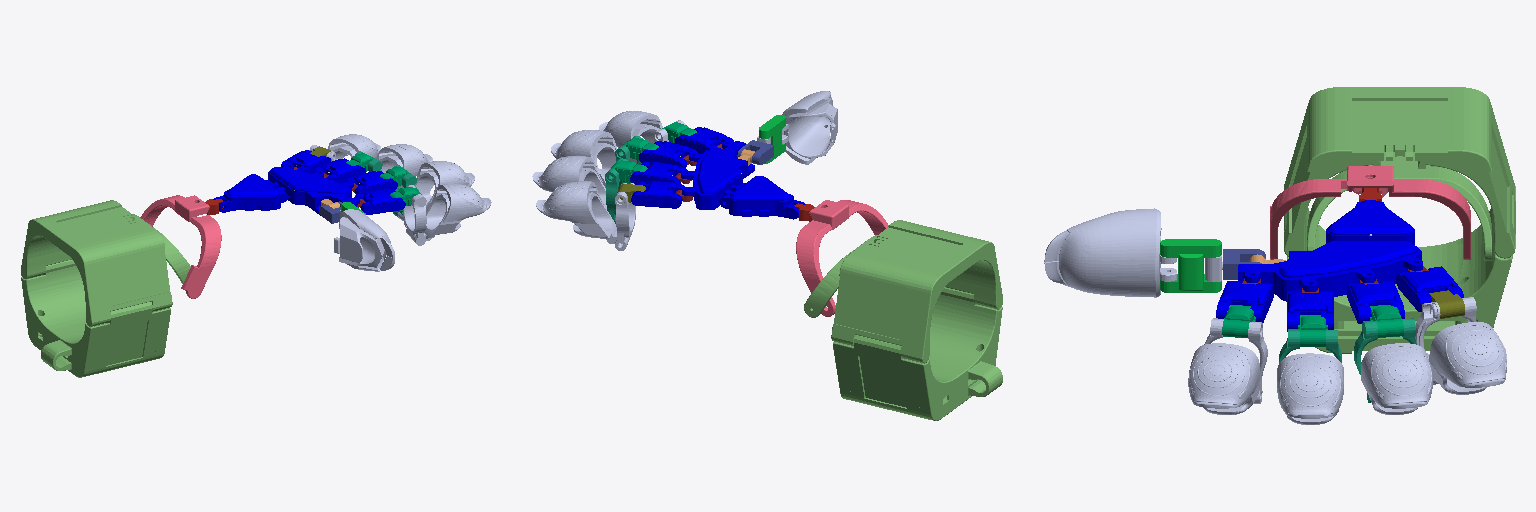
--- What the picture shows (computed from the rendered views, not written in the file) ---
The picture shows the robot from 3 angles, left to right: view 1: azimuth 30°, elevation 25°; view 2: azimuth 150°, elevation 25°; view 3: azimuth 270°, elevation 25°; orthographic projection.
Robot: exoskeleton_hand_right_description — 45 links, 44 joints (29 revolute, 15 fixed); root link base_link; default pose: all joints at 0.
Links seen in each view (by area): view 1: base_link, J1L, M5L, J4L, S5L, J3L, Z5L, W5L, X5L, S4L, S2L, Z2L (+2 smaller); view 2: base_link, M5L, J1L, J4L, X5L, J3L, Z5L, W5L, S5L, X2L, X4L, Z2L (+4 smaller); view 3: base_link, M5L, J4L, J1L, X5L, S5L, W5L, Z5L, J3L, M4L, X2L, S2L (+11 smaller).
Link boxes in pixels (x1,y1,x2,y2): base_link: (21,200,190,377); J1L: (140,195,221,298); M5L: (334,209,394,271); J4L: (268,164,359,215); S5L: (410,184,491,240); J3L: (213,174,288,212); Z5L: (398,161,474,220); W5L: (376,144,432,188); X5L: (328,134,380,158); S4L: (403,185,426,245); S2L: (355,189,405,214); Z2L: (345,171,397,194); base_link: (804,220,1002,420); M5L: (782,91,837,164); J1L: (796,200,888,316); J4L: (681,141,754,209); X5L: (536,181,629,243); J3L: (719,176,805,219); Z5L: (551,130,616,187); W5L: (532,156,606,208); S5L: (599,111,662,163); X2L: (631,181,685,208); X4L: (615,183,635,250); Z2L: (639,141,697,167); base_link: (1284,87,1515,353); M5L: (1044,208,1176,297); J4L: (1238,241,1422,301); J1L: (1270,166,1470,259); X5L: (1429,322,1506,394); S5L: (1188,343,1259,414); W5L: (1361,343,1432,414); Z5L: (1277,353,1343,424); J3L: (1326,200,1414,244); M4L: (1160,239,1221,292); X2L: (1396,266,1463,311); S2L: (1216,281,1273,322).
Size in the robot's own frame: 0.2883 by 0.1782 by 0.1042 metres.
Meshes: 45 distinct files referenced, 45 mesh visuals loaded (45 binary STL).

The robot description file, URDF, robot "exoskeleton_hand_right_description":
<?xml version="1.0" encoding="utf-8"?>
<!-- This URDF was automatically created by SolidWorks to URDF Exporter! Originally created by Stephen Brawner ([email redacted]) 
     Commit Version: 1.6.0-4-g7f85cfe  Build Version: 1.6.7995.38578
     For more information, please see http://wiki.ros.org/sw_urdf_exporter -->
<robot
  name="exoskeleton_hand_right_description">
  <link
    name="base_link">
    <inertial>
      <origin
        xyz="-0.0030282424811966 -0.000202453591969104 0.00209549277477911"
        rpy="0 0 0" />
      <mass
        value="0.0854893113839408" />
      <inertia
        ixx="7.87951204808435E-05"
        ixy="-5.74942328393189E-07"
        ixz="3.08017772210573E-07"
        iyy="3.62103093044226E-05"
        iyz="-7.67812343011597E-08"
        izz="9.51450651068513E-05" />
    </inertial>
    <visual>
      <origin
        xyz="0 0 0"
        rpy="0 0 0" />
      <geometry>
        <mesh
          filename="../meshes/base_link.STL" />
      </geometry>
      <material
        name="">
        <color
          rgba="0.525490196078431 0.756862745098039 0.486274509803922 1" />
      </material>
    </visual>
    <collision>
      <origin
        xyz="0 0 0"
        rpy="0 0 0" />
      <geometry>
        <mesh
          filename="../meshes/base_link.STL" />
      </geometry>
    </collision>
  </link>
  <link
    name="J1L">
    <inertial>
      <origin
        xyz="-0.0234888977547879 0.0141483240808185 0.0342692661965463"
        rpy="0 0 0" />
      <mass
        value="0.00476395501907497" />
      <inertia
        ixx="3.69939024607312E-06"
        ixy="3.31297478810531E-07"
        ixz="6.13762685954034E-08"
        iyy="4.01646791807973E-06"
        iyz="-5.28623044561846E-08"
        izz="8.32082377013024E-07" />
    </inertial>
    <visual>
      <origin
        xyz="0 0 0"
        rpy="0 0 0" />
      <geometry>
        <mesh
          filename="../meshes/J1L.STL" />
      </geometry>
      <material
        name="">
        <color
          rgba="0.941176470588235 0.443137254901961 0.552941176470588 1" />
      </material>
    </visual>
    <collision>
      <origin
        xyz="0 0 0"
        rpy="0 0 0" />
      <geometry>
        <mesh
          filename="../meshes/J1L.STL" />
      </geometry>
    </collision>
  </link>
  <joint
    name="J1J"
    type="revolute">
    <origin
      xyz="0.0415 0.038 0.0069695"
      rpy="1.5708 1.5577 0" />
    <parent
      link="base_link" />
    <child
      link="J1L" />
    <axis
      xyz="0 0 1" />
    <limit
      lower="-2.19"
      upper="0.88"
      effort="1"
      velocity="10" />
  </joint>
  <link
    name="J2L">
    <inertial>
      <origin
        xyz="-0.00969163633526231 -6.93889390390723E-17 0.00127341972326117"
        rpy="0 0 0" />
      <mass
        value="0.000665674176576965" />
      <inertia
        ixx="4.609022604101E-09"
        ixy="-8.23426807730033E-24"
        ixz="-1.78338122130669E-09"
        iyy="2.16062235318137E-08"
        iyz="-1.42351042593349E-23"
        izz="2.17500659945559E-08" />
    </inertial>
    <visual>
      <origin
        xyz="0 0 0"
        rpy="0 0 0" />
      <geometry>
        <mesh
          filename="../meshes/J2L.STL" />
      </geometry>
      <material
        name="">
        <color
          rgba="0.67843137254902 0.192156862745098 0.164705882352941 1" />
      </material>
    </visual>
    <collision>
      <origin
        xyz="0 0 0"
        rpy="0 0 0" />
      <geometry>
        <mesh
          filename="../meshes/J2L.STL" />
      </geometry>
    </collision>
  </link>
  <joint
    name="J2J"
    type="revolute">
    <origin
      xyz="-0.032507 0.023436 0.038"
      rpy="1.5708 0 -1.5839" />
    <parent
      link="J1L" />
    <child
      link="J2L" />
    <axis
      xyz="0 0 1" />
    <limit
      lower="-0.8"
      upper="0.8"
      effort="1"
      velocity="10" />
  </joint>
  <link
    name="J3L">
    <inertial>
      <origin
        xyz="0.00186966177785657 -0.0230468604582145 0.00475812237733981"
        rpy="0 0 0" />
      <mass
        value="0.00360059007040256" />
      <inertia
        ixx="7.0290401499669E-07"
        ixy="-9.75977694248046E-09"
        ixz="-2.2825487798017E-09"
        iyy="2.97008290837651E-07"
        iyz="-3.0558621166491E-08"
        izz="4.34972845206617E-07" />
    </inertial>
    <visual>
      <origin
        xyz="0 0 0"
        rpy="0 0 0" />
      <geometry>
        <mesh
          filename="../meshes/J3L.STL" />
      </geometry>
      <material
        name="">
        <color
          rgba="0 0 1 1" />
      </material>
    </visual>
    <collision>
      <origin
        xyz="0 0 0"
        rpy="0 0 0" />
      <geometry>
        <mesh
          filename="../meshes/J3L.STL" />
      </geometry>
    </collision>
  </link>
  <joint
    name="J3J"
    type="revolute">
    <origin
      xyz="-0.0167 -0.005 0.00095"
      rpy="-1.5708 -1.5577 0" />
    <parent
      link="J2L" />
    <child
      link="J3L" />
    <axis
      xyz="0 0 1" />
    <limit
      lower="-1.57"
      upper="1.75"
      effort="1"
      velocity="10" />
  </joint>
  <link
    name="J4L">
    <inertial>
      <origin
        xyz="0.00194154745006489 -0.0185349683103242 0.0249051962758978"
        rpy="0 0 0" />
      <mass
        value="0.00694236253516395" />
      <inertia
        ixx="2.80814850163908E-06"
        ixy="2.24577493768816E-08"
        ixz="-5.84812707905441E-09"
        iyy="2.2656058634879E-06"
        iyz="5.91287933358155E-07"
        izz="6.18441294014668E-07" />
    </inertial>
    <visual>
      <origin
        xyz="0 0 0"
        rpy="0 0 0" />
      <geometry>
        <mesh
          filename="../meshes/J4L.STL" />
      </geometry>
      <material
        name="">
        <color
          rgba="0 0 1 1" />
      </material>
    </visual>
    <collision>
      <origin
        xyz="0 0 0"
        rpy="0 0 0" />
      <geometry>
        <mesh
          filename="../meshes/J4L.STL" />
      </geometry>
    </collision>
  </link>
  <joint
    name="J4J"
    type="revolute">
    <origin
      xyz="-0.00050918 -0.038997 -0.00625"
      rpy="0 0 0" />
    <parent
      link="J3L" />
    <child
      link="J4L" />
    <axis
      xyz="0 0 1" />
    <limit
      lower="-1.75"
      upper="1.41"
      effort="1"
      velocity="10" />
  </joint>
  <link
    name="M1L">
    <inertial>
      <origin
        xyz="2.08166817117217E-17 -0.00596536053370201 0.000976115815327055"
        rpy="0 0 0" />
      <mass
        value="0.000324527245167189" />
      <inertia
        ixx="4.90075663532644E-09"
        ixy="5.88782154275791E-24"
        ixz="3.56794239054668E-25"
        iyy="2.0429000825295E-09"
        iyz="-7.09240574499119E-10"
        izz="5.10251044496689E-09" />
    </inertial>
    <visual>
      <origin
        xyz="0 0 0"
        rpy="0 0 0" />
      <geometry>
        <mesh
          filename="../meshes/M1L.STL" />
      </geometry>
      <material
        name="">
        <color
          rgba="0.890196078431372 0.666666666666667 0.458823529411765 1" />
      </material>
    </visual>
    <collision>
      <origin
        xyz="0 0 0"
        rpy="0 0 0" />
      <geometry>
        <mesh
          filename="../meshes/M1L.STL" />
      </geometry>
    </collision>
  </link>
  <joint
    name="M1J"
    type="revolute">
    <origin
      xyz="0.0025441 -0.015785 0.045979"
      rpy="-1.5708 0 1.5577" />
    <parent
      link="J4L" />
    <child
      link="M1L" />
    <axis
      xyz="0 0 1" />
    <limit
      lower="-0.04"
      upper="1.33"
      effort="1"
      velocity="10" />
  </joint>
  <link
    name="M2L">
    <inertial>
      <origin
        xyz="-0.00739583767943233 -0.00027241648032173 -0.00471529337479247"
        rpy="0 0 0" />
      <mass
        value="0.000679164183839798" />
      <inertia
        ixx="1.57082424154266E-08"
        ixy="-7.17563661699665E-11"
        ixz="5.23554546815558E-10"
        iyy="2.46980745186305E-08"
        iyz="8.97591419617405E-10"
        izz="1.37211850467112E-08" />
    </inertial>
    <visual>
      <origin
        xyz="0 0 0"
        rpy="0 0 0" />
      <geometry>
        <mesh
          filename="../meshes/M2L.STL" />
      </geometry>
      <material
        name="">
        <color
          rgba="0.329411764705882 0.372549019607843 0.643137254901961 1" />
      </material>
    </visual>
    <collision>
      <origin
        xyz="0 0 0"
        rpy="0 0 0" />
      <geometry>
        <mesh
          filename="../meshes/M2L.STL" />
      </geometry>
    </collision>
  </link>
  <joint
    name="M2J"
    type="revolute">
    <origin
      xyz="0.00575 -0.008 0.0005"
      rpy="1.5708 0 1.5708" />
    <parent
      link="M1L" />
    <child
      link="M2L" />
    <axis
      xyz="0 0 1" />
    <limit
      lower="-0.37"
      upper="1.75"
      effort="1"
      velocity="10" />
  </joint>
  <link
    name="M3L">
    <inertial>
      <origin
        xyz="1.47103614012156E-11 1.12633000842743E-09 0.00739067697875911"
        rpy="0 0 0" />
      <mass
        value="0.000371641676766653" />
      <inertia
        ixx="2.93982369883335E-09"
        ixy="2.35049949743526E-11"
        ixz="2.08142130473412E-18"
        iyy="4.73977337983283E-09"
        iyz="1.59308732670221E-16"
        izz="4.11198136517225E-09" />
    </inertial>
    <visual>
      <origin
        xyz="0 0 0"
        rpy="0 0 0" />
      <geometry>
        <mesh
          filename="../meshes/M3L.STL" />
      </geometry>
      <material
        name="">
        <color
          rgba="0.792156862745098 0.819607843137255 0.933333333333333 1" />
      </material>
    </visual>
    <collision>
      <origin
        xyz="0 0 0"
        rpy="0 0 0" />
      <geometry>
        <mesh
          filename="../meshes/M3L.STL" />
      </geometry>
    </collision>
  </link>
  <joint
    name="M3J"
    type="revolute">
    <origin
      xyz="-0.00875 0 -0.00575"
      rpy="1.5708 -0.013056 -1.5708" />
    <parent
      link="M2L" />
    <child
      link="M3L" />
    <axis
      xyz="0 0 1" />
    <limit
      lower="-3.14"
      upper="3.14"
      effort="1"
      velocity="10" />
  </joint>
  <link
    name="M4L">
    <inertial>
      <origin
        xyz="-0.000701370472390637 0.0083051570146404 -0.00910354524501564"
        rpy="0 0 0" />
      <mass
        value="0.00113658475281302" />
      <inertia
        ixx="7.91289481639668E-08"
        ixy="-7.32304438934798E-11"
        ixz="5.07569066740433E-10"
        iyy="4.84396925085461E-08"
        iyz="2.26947696456824E-10"
        izz="3.85212891337452E-08" />
    </inertial>
    <visual>
      <origin
        xyz="0 0 0"
        rpy="0 0 0" />
      <geometry>
        <mesh
          filename="../meshes/M4L.STL" />
      </geometry>
      <material
        name="">
        <color
          rgba="0.0823529411764706 0.756862745098039 0.329411764705882 1" />
      </material>
    </visual>
    <collision>
      <origin
        xyz="0 0 0"
        rpy="0 0 0" />
      <geometry>
        <mesh
          filename="../meshes/M4L.STL" />
      </geometry>
    </collision>
  </link>
  <joint
    name="M4J"
    type="revolute">
    <origin
      xyz="0.0072494 -9.4655E-05 0.008"
      rpy="1.5708 0 1.5577" />
    <parent
      link="M3L" />
    <child
      link="M4L" />
    <axis
      xyz="0 0 1" />
    <limit
      lower="-1.61"
      upper="1.75"
      effort="1"
      velocity="10" />
  </joint>
  <link
    name="M5L">
    <inertial>
      <origin
        xyz="0.0199247579145728 -0.00664658958517888 -0.00724374250764675"
        rpy="0 0 0" />
      <mass
        value="0.00707014971945319" />
      <inertia
        ixx="9.10463971439307E-07"
        ixy="2.25024548331632E-08"
        ixz="1.52653156782316E-10"
        iyy="1.35795425794699E-06"
        iyz="7.24350281099708E-11"
        izz="9.94161850232494E-07" />
    </inertial>
    <visual>
      <origin
        xyz="0 0 0"
        rpy="0 0 0" />
      <geometry>
        <mesh
          filename="../meshes/M5L.STL" />
      </geometry>
      <material
        name="">
        <color
          rgba="0.792156862745098 0.819607843137255 0.933333333333333 1" />
      </material>
    </visual>
    <collision>
      <origin
        xyz="0 0 0"
        rpy="0 0 0" />
      <geometry>
        <mesh
          filename="../meshes/M5L.STL" />
      </geometry>
    </collision>
  </link>
  <joint
    name="M5J"
    type="revolute">
    <origin
      xyz="0 0.0168 0"
      rpy="0 0 1.5708" />
    <parent
      link="M4L" />
    <child
      link="M5L" />
    <axis
      xyz="0 0 1" />
    <limit
      lower="-1.35"
      upper="0.95"
      effort="1"
      velocity="10" />
  </joint>
  <link
    name="M6L">
    <inertial>
      <origin
        xyz="0 0 -3.46944695195361E-18"
        rpy="0 0 0" />
      <mass
        value="5.23598775598299E-07" />
      <inertia
        ixx="5.23598775598299E-14"
        ixy="1.85037170764029E-30"
        ixz="9.86073589133117E-32"
        iyy="5.23598775598299E-14"
        iyz="0"
        izz="5.23598775598299E-14" />
    </inertial>
    <visual>
      <origin
        xyz="0 0 0"
        rpy="0 0 0" />
      <geometry>
        <mesh
          filename="../meshes/M6L.STL" />
      </geometry>
      <material
        name="">
        <color
          rgba="0.792156862745098 0.819607843137255 0.933333333333333 1" />
      </material>
    </visual>
    <collision>
      <origin
        xyz="0 0 0"
        rpy="0 0 0" />
      <geometry>
        <mesh
          filename="../meshes/M6L.STL" />
      </geometry>
    </collision>
  </link>
  <joint
    name="M6J"
    type="fixed">
    <origin
      xyz="0.0031821 -0.0030538 -0.0072439"
      rpy="1.5708 -1.5708 3.1416" />
    <parent
      link="M5L" />
    <child
      link="M6L" />
    <axis
      xyz="0 0 0" />
  </joint>
  <link
    name="M42L">
    <inertial>
      <origin
        xyz="0 -1.58636606109874E-05 3.46944695195361E-18"
        rpy="0 0 0" />
      <mass
        value="1.32197312466454E-07" />
      <inertia
        ixx="1.1896164179752E-14"
        ixy="-3.90582098697057E-30"
        ixz="-5.77476323385973E-38"
        iyy="2.80976814867146E-15"
        iyz="-3.80277608606728E-30"
        izz="1.1896164179752E-14" />
    </inertial>
    <visual>
      <origin
        xyz="0 0 0"
        rpy="0 0 0" />
      <geometry>
        <mesh
          filename="../meshes/M42L.STL" />
      </geometry>
      <material
        name="">
        <color
          rgba="0.792156862745098 0.819607843137255 0.933333333333333 1" />
      </material>
    </visual>
    <collision>
      <origin
        xyz="0 0 0"
        rpy="0 0 0" />
      <geometry>
        <mesh
          filename="../meshes/M42L.STL" />
      </geometry>
    </collision>
  </link>
  <joint
    name="M42J"
    type="fixed">
    <origin
      xyz="0.0030538 0.019982 -0.0072439"
      rpy="3.0266 -1.5708 -3.0266" />
    <parent
      link="M4L" />
    <child
      link="M42L" />
    <axis
      xyz="0 0 0" />
  </joint>
  <link
    name="S1L">
    <inertial>
      <origin
        xyz="-0.00312544261073705 -0.000550907957232599 0.00211239392043496"
        rpy="0 0 0" />
      <mass
        value="0.000192889769820855" />
      <inertia
        ixx="1.22828023074698E-09"
        ixy="-7.93622418901619E-11"
        ixz="2.74220455975325E-10"
        iyy="1.66418938890387E-09"
        iyz="4.83658343277921E-11"
        izz="2.22682029706669E-09" />
    </inertial>
    <visual>
      <origin
        xyz="0 0 0"
        rpy="0 0 0" />
      <geometry>
        <mesh
          filename="../meshes/S1L.STL" />
      </geometry>
      <material
        name="">
        <color
          rgba="0.549019607843137 0.192156862745098 0.223529411764706 1" />
      </material>
    </visual>
    <collision>
      <origin
        xyz="0 0 0"
        rpy="0 0 0" />
      <geometry>
        <mesh
          filename="../meshes/S1L.STL" />
      </geometry>
    </collision>
  </link>
  <joint
    name="S1J"
    type="revolute">
    <origin
      xyz="0.0030482 -0.030792 0.055979"
      rpy="-1.5708 0 1.5577" />
    <parent
      link="J4L" />
    <child
      link="S1L" />
    <axis
      xyz="0 0 1" />
    <limit
      lower="-0.18"
      upper="0.53"
      effort="1"
      velocity="10" />
  </joint>
  <link
    name="S2L">
    <inertial>
      <origin
        xyz="0.00095733890357037 -0.00977539321004778 -0.00676816851031117"
        rpy="0 0 0" />
      <mass
        value="0.00105740458301381" />
      <inertia
        ixx="7.90941482986954E-08"
        ixy="-7.06562739979709E-10"
        ixz="2.49092945233405E-10"
        iyy="3.49234588958094E-08"
        iyz="-5.44358707965256E-10"
        izz="5.063667597165E-08" />
    </inertial>
    <visual>
      <origin
        xyz="0 0 0"
        rpy="0 0 0" />
      <geometry>
        <mesh
          filename="../meshes/S2L.STL" />
      </geometry>
      <material
        name="">
        <color
          rgba="0 0 1 1" />
      </material>
    </visual>
    <collision>
      <origin
        xyz="0 0 0"
        rpy="0 0 0" />
      <geometry>
        <mesh
          filename="../meshes/S2L.STL" />
      </geometry>
    </collision>
  </link>
  <joint
    name="S2J"
    type="revolute">
    <origin
      xyz="-0.0038387 -0.0070233 0.0022"
      rpy="1.5708 1.5579 0.17453" />
    <parent
      link="S1L" />
    <child
      link="S2L" />
    <axis
      xyz="0 0 1" />
    <limit
      lower="0"
      upper="1.57"
      effort="1"
      velocity="10" />
  </joint>
  <link
    name="S3L">
    <inertial>
      <origin
        xyz="0.000108697895256533 -0.00807484991878133 -0.00696986689663512"
        rpy="0 0 0" />
      <mass
        value="0.000849709951426843" />
      <inertia
        ixx="3.30854962422078E-08"
        ixy="3.36411158927184E-10"
        ixz="-7.27305871324557E-11"
        iyy="1.0967590174831E-08"
        iyz="-1.26172770740646E-09"
        izz="2.74481289977092E-08" />
    </inertial>
    <visual>
      <origin
        xyz="0 0 0"
        rpy="0 0 0" />
      <geometry>
        <mesh
          filename="../meshes/S3L.STL" />
      </geometry>
      <material
        name="">
        <color
          rgba="0.00784313725490196 0.662745098039216 0.450980392156863 1" />
      </material>
    </visual>
    <collision>
      <origin
        xyz="0 0 0"
        rpy="0 0 0" />
      <geometry>
        <mesh
          filename="../meshes/S3L.STL" />
      </geometry>
    </collision>
  </link>
  <joint
    name="S3J"
    type="revolute">
    <origin
      xyz="-0.00027001 -0.020998 0"
      rpy="0 0 0" />
    <parent
      link="S2L" />
    <child
      link="S3L" />
    <axis
      xyz="0 0 1" />
    <limit
      lower="0"
      upper="1.57"
      effort="1"
      velocity="10" />
  </joint>
  <link
    name="S4L">
    <inertial>
      <origin
        xyz="-0.0148953309220888 0.00123872342573127 -0.00844783491997686"
        rpy="0 0 0" />
      <mass
        value="0.00120840096516089" />
      <inertia
        ixx="7.62051804328912E-08"
        ixy="-1.0494628986771E-09"
        ixz="-5.40113101292498E-09"
        iyy="1.85555422241781E-07"
        iyz="-3.12622169572777E-09"
        izz="1.19337638965695E-07" />
    </inertial>
    <visual>
      <origin
        xyz="0 0 0"
        rpy="0 0 0" />
      <geometry>
        <mesh
          filename="../meshes/S4L.STL" />
      </geometry>
      <material
        name="">
        <color
          rgba="0.792156862745098 0.819607843137255 0.933333333333333 1" />
      </material>
    </visual>
    <collision>
      <origin
        xyz="0 0 0"
        rpy="0 0 0" />
      <geometry>
        <mesh
          filename="../meshes/S4L.STL" />
      </geometry>
    </collision>
  </link>
  <joint
    name="S4J"
    type="revolute">
    <origin
      xyz="-0.00017553 -0.01365 1.7002E-05"
      rpy="0 0 0" />
    <parent
      link="S3L" />
    <child
      link="S4L" />
    <axis
      xyz="0 0 1" />
    <limit
      lower="-0.7"
      upper="2.01"
      effort="1"
      velocity="10" />
  </joint>
  <link
    name="S5L">
    <inertial>
      <origin
        xyz="0.014868718139124 -0.0225968144653327 -0.00776038453840253"
        rpy="0 0 0" />
      <mass
        value="0.00488790010337199" />
      <inertia
        ixx="6.39311286129823E-07"
        ixy="1.61556245893135E-07"
        ixz="-7.02480159365935E-09"
        iyy="4.66277306234862E-07"
        iyz="-3.21011772342471E-09"
        izz="5.64651285799176E-07" />
    </inertial>
    <visual>
      <origin
        xyz="0 0 0"
        rpy="0 0 0" />
      <geometry>
        <mesh
          filename="../meshes/S5L.STL" />
      </geometry>
      <material
        name="">
        <color
          rgba="0.792156862745098 0.819607843137255 0.933333333333333 1" />
      </material>
    </visual>
    <collision>
      <origin
        xyz="0 0 0"
        rpy="0 0 0" />
      <geometry>
        <mesh
          filename="../meshes/S5L.STL" />
      </geometry>
    </collision>
  </link>
  <joint
    name="S5J"
    type="revolute">
    <origin
      xyz="-0.026994 0.00034711 0.00089646"
      rpy="0 0 0" />
    <parent
      link="S4L" />
    <child
      link="S5L" />
    <axis
      xyz="0 0 1" />
    <limit
      lower="-0.27"
      upper="0.53"
      effort="1"
      velocity="10" />
  </joint>
  <link
    name="S6L">
    <inertial>
      <origin
        xyz="1.73472347597681E-18 0 -1.68051336735253E-18"
        rpy="0 0 0" />
      <mass
        value="5.23598775598299E-07" />
      <inertia
        ixx="5.23598775598299E-14"
        ixy="-1.57772181044202E-30"
        ixz="1.97215226305253E-31"
        iyy="5.23598775598299E-14"
        iyz="-5.17689969051289E-31"
        izz="5.23598775598299E-14" />
    </inertial>
    <visual>
      <origin
        xyz="0 0 0"
        rpy="0 0 0" />
      <geometry>
        <mesh
          filename="../meshes/S6L.STL" />
      </geometry>
      <material
        name="">
        <color
          rgba="0.792156862745098 0.819607843137255 0.933333333333333 1" />
      </material>
    </visual>
    <collision>
      <origin
        xyz="0 0 0"
        rpy="0 0 0" />
      <geometry>
        <mesh
          filename="../meshes/S6L.STL" />
      </geometry>
    </collision>
  </link>
  <joint
    name="S6J"
    type="fixed">
    <origin
      xyz="0.023695 -0.017904 -0.0072503"
      rpy="-1.5646 -1.5708 -1.7764" />
    <parent
      link="S5L" />
    <child
      link="S6L" />
    <axis
      xyz="0 0 0" />
  </joint>
  <link
    name="S32L">
    <inertial>
      <origin
        xyz="0 -1.58636606109819E-05 4.33680868994202E-19"
        rpy="0 0 0" />
      <mass
        value="1.32197312466454E-07" />
      <inertia
        ixx="1.18961641797519E-14"
        ixy="-3.45126646034193E-31"
        ixz="-4.50417014134211E-32"
        iyy="2.80976814867145E-15"
        iyz="-4.62957657607262E-32"
        izz="1.18961641797519E-14" />
    </inertial>
    <visual>
      <origin
        xyz="0 0 0"
        rpy="0 0 0" />
      <geometry>
        <mesh
          filename="../meshes/S32L.STL" />
      </geometry>
      <material
        name="">
        <color
          rgba="0.792156862745098 0.819607843137255 0.933333333333333 1" />
      </material>
    </visual>
    <collision>
      <origin
        xyz="0 0 0"
        rpy="0 0 0" />
      <geometry>
        <mesh
          filename="../meshes/S32L.STL" />
      </geometry>
    </collision>
  </link>
  <joint
    name="S32J"
    type="fixed">
    <origin
      xyz="0.0022813 0.017972 -0.007"
      rpy="1.5675 -1.5708 1.5612" />
    <parent
      link="S3L" />
    <child
      link="S32L" />
    <axis
      xyz="0 0 0" />
  </joint>
  <link
    name="S22L">
    <inertial>
      <origin
        xyz="0 0 0"
        rpy="0 0 0" />
      <mass
        value="5.235987755983E-07" />
      <inertia
        ixx="5.23598775598301E-14"
        ixy="1.57772181044202E-30"
        ixz="-2.15452604710114E-34"
        iyy="5.23598775598301E-14"
        iyz="-1.49109097301784E-32"
        izz="5.23598775598301E-14" />
    </inertial>
    <visual>
      <origin
        xyz="0 0 0"
        rpy="0 0 0" />
      <geometry>
        <mesh
          filename="../meshes/S22L.STL" />
      </geometry>
      <material
        name="">
        <color
          rgba="0.792156862745098 0.819607843137255 0.933333333333333 1" />
      </material>
    </visual>
    <collision>
      <origin
        xyz="0 0 0"
        rpy="0 0 0" />
      <geometry>
        <mesh
          filename="../meshes/S22L.STL" />
      </geometry>
    </collision>
  </link>
  <joint
    name="S22J"
    type="fixed">
    <origin
      xyz="0.0020113 -0.0030261 -0.007"
      rpy="1.5675 -1.5708 1.5612" />
    <parent
      link="S2L" />
    <child
      link="S22L" />
    <axis
      xyz="0 0 0" />
  </joint>
  <link
    name="Z1L">
    <inertial>
      <origin
        xyz="-0.00317362496059348 1.90601977031329E-07 0.0021123938397792"
        rpy="0 0 0" />
      <mass
        value="0.00019288996205081" />
      <inertia
        ixx="1.21428011210357E-09"
        ixy="-3.15466164412665E-14"
        ixz="2.78453401709651E-10"
        iyy="1.67818852730914E-09"
        iyz="1.30181408780791E-14"
        izz="2.22681916180581E-09" />
    </inertial>
    <visual>
      <origin
        xyz="0 0 0"
        rpy="0 0 0" />
      <geometry>
        <mesh
          filename="../meshes/Z1L.STL" />
      </geometry>
      <material
        name="">
        <color
          rgba="0.549019607843137 0.192156862745098 0.223529411764706 1" />
      </material>
    </visual>
    <collision>
      <origin
        xyz="0 0 0"
        rpy="0 0 0" />
      <geometry>
        <mesh
          filename="../meshes/Z1L.STL" />
      </geometry>
    </collision>
  </link>
  <joint
    name="Z1J"
    type="revolute">
    <origin
      xyz="0.0029438 -0.038792 0.033979"
      rpy="-1.5708 0 1.5577" />
    <parent
      link="J4L" />
    <child
      link="Z1L" />
    <axis
      xyz="0 0 1" />
    <limit
      lower="-0.18"
      upper="0.53"
      effort="1"
      velocity="10" />
  </joint>
  <link
    name="Z2L">
    <inertial>
      <origin
        xyz="0.00108294964942605 -0.00976229003934815 -0.00676815436470501"
        rpy="0 0 0" />
      <mass
        value="0.00105740703435151" />
      <inertia
        ixx="7.91052707862228E-08"
        ixy="-1.38397543924981E-10"
        ixz="2.56023799401273E-10"
        iyy="3.4912725372486E-08"
        iyz="-5.40975211714476E-10"
        izz="5.06368399764381E-08" />
    </inertial>
    <visual>
      <origin
        xyz="0 0 0"
        rpy="0 0 0" />
      <geometry>
        <mesh
          filename="../meshes/Z2L.STL" />
      </geometry>
      <material
        name="">
        <color
          rgba="0 0 1 1" />
      </material>
    </visual>
    <collision>
      <origin
        xyz="0 0 0"
        rpy="0 0 0" />
      <geometry>
        <mesh
          filename="../meshes/Z2L.STL" />
      </geometry>
    </collision>
  </link>
  <joint
    name="Z2J"
    type="revolute">
    <origin
      xyz="-0.005 -0.00625 0.0022"
      rpy="1.5708 1.5708 0" />
    <parent
      link="Z1L" />
    <child
      link="Z2L" />
    <axis
      xyz="0 0 1" />
    <limit
      lower="0"
      upper="1.57"
      effort="1"
      velocity="10" />
  </joint>
  <link
    name="Z3L">
    <inertial>
      <origin
        xyz="0.00021251147909673 -0.00807278487809558 -0.00696986672181257"
        rpy="0 0 0" />
      <mass
        value="0.000849709970712661" />
      <inertia
        ixx="3.3073189759747E-08"
        ixy="6.20657581317547E-10"
        ixz="-5.6501921786893E-11"
        iyy="1.09798967940945E-08"
        iyz="-1.26255827889388E-09"
        izz="2.74481289874576E-08" />
    </inertial>
    <visual>
      <origin
        xyz="0 0 0"
        rpy="0 0 0" />
      <geometry>
        <mesh
          filename="../meshes/Z3L.STL" />
      </geometry>
      <material
        name="">
        <color
          rgba="0.00784313725490196 0.662745098039216 0.450980392156863 1" />
      </material>
    </visual>
    <collision>
      <origin
        xyz="0 0 0"
        rpy="0 0 0" />
      <geometry>
        <mesh
          filename="../meshes/Z3L.STL" />
      </geometry>
    </collision>
  </link>
  <joint
    name="Z3J"
    type="revolute">
    <origin
      xyz="0 -0.021 0"
      rpy="0 0 0" />
    <parent
      link="Z2L" />
    <child
      link="Z3L" />
    <axis
      xyz="0 0 1" />
    <limit
      lower="0"
      upper="1.66"
      effort="1"
      velocity="10" />
  </joint>
  <link
    name="Z4L">
    <inertial>
      <origin
        xyz="-0.0150810186878771 0.00112675357659655 -0.0082664912619279"
        rpy="0 0 0" />
      <mass
        value="0.00125595152024745" />
      <inertia
        ixx="8.10924096893266E-08"
        ixy="-4.93983851485504E-10"
        ixz="-5.74016022620157E-09"
        iyy="1.91710699527204E-07"
        iyz="-2.38025442416053E-09"
        izz="1.21734264890698E-07" />
    </inertial>
    <visual>
      <origin
        xyz="0 0 0"
        rpy="0 0 0" />
      <geometry>
        <mesh
          filename="../meshes/Z4L.STL" />
      </geometry>
      <material
        name="">
        <color
          rgba="0.152941176470588 0.658823529411765 0.537254901960784 1" />
      </material>
    </visual>
    <collision>
      <origin
        xyz="0 0 0"
        rpy="0 0 0" />
      <geometry>
        <mesh
          filename="../meshes/Z4L.STL" />
      </geometry>
    </collision>
  </link>
  <joint
    name="Z4J"
    type="revolute">
    <origin
      xyz="0 -0.013652 1.7002E-05"
      rpy="0 0 0.013056" />
    <parent
      link="Z3L" />
    <child
      link="Z4L" />
    <axis
      xyz="0 0 1" />
    <limit
      lower="-1.05"
      upper="2.38"
      effort="1"
      velocity="10" />
  </joint>
  <link
    name="Z5L">
    <inertial>
      <origin
        xyz="0.0148962708755205 -0.0226984821758128 -0.00775296956067139"
        rpy="0 0 0" />
      <mass
        value="0.00492807282392643" />
      <inertia
        ixx="6.4281779610682E-07"
        ixy="1.60198714501889E-07"
        ixz="-6.74111211026783E-09"
        iyy="4.6778460809714E-07"
        iyz="-3.06139352676338E-09"
        izz="5.68078847947025E-07" />
    </inertial>
    <visual>
      <origin
        xyz="0 0 0"
        rpy="0 0 0" />
      <geometry>
        <mesh
          filename="../meshes/Z5L.STL" />
      </geometry>
      <material
        name="">
        <color
          rgba="0.792156862745098 0.819607843137255 0.933333333333333 1" />
      </material>
    </visual>
    <collision>
      <origin
        xyz="0 0 0"
        rpy="0 0 0" />
      <geometry>
        <mesh
          filename="../meshes/Z5L.STL" />
      </geometry>
    </collision>
  </link>
  <joint
    name="Z5J"
    type="revolute">
    <origin
      xyz="-0.026994 0.00035246 0.00089646"
      rpy="0 0 0" />
    <parent
      link="Z4L" />
    <child
      link="Z5L" />
    <axis
      xyz="0 0 1" />
    <limit
      lower="-0.27"
      upper="0.53"
      effort="1"
      velocity="10" />
  </joint>
  <link
    name="Z6L">
    <inertial>
      <origin
        xyz="0 -6.93889390390723E-18 0"
        rpy="0 0 0" />
      <mass
        value="5.23598775598299E-07" />
      <inertia
        ixx="5.23598775598299E-14"
        ixy="-6.51388469087263E-31"
        ixz="-8.96831017167883E-44"
        iyy="5.23598775598299E-14"
        iyz="-7.88860905201889E-31"
        izz="5.23598775598299E-14" />
    </inertial>
    <visual>
      <origin
        xyz="0 0 0"
        rpy="0 0 0" />
      <geometry>
        <mesh
          filename="../meshes/Z6L.STL" />
      </geometry>
      <material
        name="">
        <color
          rgba="0.792156862745098 0.819607843137255 0.933333333333333 1" />
      </material>
    </visual>
    <collision>
      <origin
        xyz="0 0 0"
        rpy="0 0 0" />
      <geometry>
        <mesh
          filename="../meshes/Z6L.STL" />
      </geometry>
    </collision>
  </link>
  <joint
    name="Z6J"
    type="fixed">
    <origin
      xyz="0.023691 -0.017908 -0.0072503"
      rpy="2.942 -1.5708 0" />
    <parent
      link="Z5L" />
    <child
      link="Z6L" />
    <axis
      xyz="0 0 0" />
  </joint>
  <link
    name="Z32L">
    <inertial>
      <origin
        xyz="0 1.58636606109831E-05 0"
        rpy="0 0 0" />
      <mass
        value="1.32197312466454E-07" />
      <inertia
        ixx="1.18961641797519E-14"
        ixy="1.12444392051632E-29"
        ixz="1.11652591937895E-34"
        iyy="2.80976814867145E-15"
        iyz="-2.40356057058582E-31"
        izz="1.18961641797519E-14" />
    </inertial>
    <visual>
      <origin
        xyz="0 0 0"
        rpy="0 0 0" />
      <geometry>
        <mesh
          filename="../meshes/Z32L.STL" />
      </geometry>
      <material
        name="">
        <color
          rgba="0.792156862745098 0.819607843137255 0.933333333333333 1" />
      </material>
    </visual>
    <collision>
      <origin
        xyz="0 0 0"
        rpy="0 0 0" />
      <geometry>
        <mesh
          filename="../meshes/Z32L.STL" />
      </geometry>
    </collision>
  </link>
  <joint
    name="Z32J"
    type="fixed">
    <origin
      xyz="0.00205 0.018 -0.007"
      rpy="3.1416 -1.5708 0" />
    <parent
      link="Z3L" />
    <child
      link="Z32L" />
    <axis
      xyz="0 0 0" />
  </joint>
  <link
    name="Z22L">
    <inertial>
      <origin
        xyz="0 0 -4.33680868994202E-19"
        rpy="0 0 0" />
      <mass
        value="5.235987755983E-07" />
      <inertia
        ixx="5.23598775598301E-14"
        ixy="-1.22546283173715E-30"
        ixz="-1.12103877145985E-44"
        iyy="5.23598775598301E-14"
        iyz="4.93038065830988E-32"
        izz="5.23598775598301E-14" />
    </inertial>
    <visual>
      <origin
        xyz="0 0 0"
        rpy="0 0 0" />
      <geometry>
        <mesh
          filename="../meshes/Z22L.STL" />
      </geometry>
      <material
        name="">
        <color
          rgba="0.792156862745098 0.819607843137255 0.933333333333333 1" />
      </material>
    </visual>
    <collision>
      <origin
        xyz="0 0 0"
        rpy="0 0 0" />
      <geometry>
        <mesh
          filename="../meshes/Z22L.STL" />
      </geometry>
    </collision>
  </link>
  <joint
    name="Z22J"
    type="fixed">
    <origin
      xyz="0.00205 -0.003 -0.007"
      rpy="3.1416 -1.5708 0" />
    <parent
      link="Z2L" />
    <child
      link="Z22L" />
    <axis
      xyz="0 0 0" />
  </joint>
  <link
    name="W1L">
    <inertial>
      <origin
        xyz="-0.00312537672325853 0.000551284397446165 0.00211239418224559"
        rpy="0 0 0" />
      <mass
        value="0.000192889809744797" />
      <inertia
        ixx="1.22825847376789E-09"
        ixy="7.9303393276358E-11"
        ixz="2.74225041276818E-10"
        iyy="1.66421096306061E-09"
        iyz="-4.8340434955062E-11"
        izz="2.22681989879737E-09" />
    </inertial>
    <visual>
      <origin
        xyz="0 0 0"
        rpy="0 0 0" />
      <geometry>
        <mesh
          filename="../meshes/W1L.STL" />
      </geometry>
      <material
        name="">
        <color
          rgba="0.549019607843137 0.192156862745098 0.223529411764706 1" />
      </material>
    </visual>
    <collision>
      <origin
        xyz="0 0 0"
        rpy="0 0 0" />
      <geometry>
        <mesh
          filename="../meshes/W1L.STL" />
      </geometry>
    </collision>
  </link>
  <joint
    name="W1J"
    type="revolute">
    <origin
      xyz="0.0030482 -0.030792 0.011979"
      rpy="-1.5708 0 1.5577" />
    <parent
      link="J4L" />
    <child
      link="W1L" />
    <axis
      xyz="0 0 1" />
    <limit
      lower="-0.11"
      upper="0.53"
      effort="1"
      velocity="10" />
  </joint>
  <link
    name="W2L">
    <inertial>
      <origin
        xyz="0.000957341007663811 -0.00977540366813838 -0.00676815451509891"
        rpy="0 0 0" />
      <mass
        value="0.00105740722614887" />
      <inertia
        ixx="7.90944113203753E-08"
        ixy="-7.06505801813741E-10"
        ixz="2.49047020533937E-10"
        iyy="3.49235934165006E-08"
        iyz="-5.4421508137256E-10"
        izz="5.06368382565424E-08" />
    </inertial>
    <visual>
      <origin
        xyz="0 0 0"
        rpy="0 0 0" />
      <geometry>
        <mesh
          filename="../meshes/W2L.STL" />
      </geometry>
      <material
        name="">
        <color
          rgba="0 0 1 1" />
      </material>
    </visual>
    <collision>
      <origin
        xyz="0 0 0"
        rpy="0 0 0" />
      <geometry>
        <mesh
          filename="../meshes/W2L.STL" />
      </geometry>
    </collision>
  </link>
  <joint
    name="W2J"
    type="revolute">
    <origin
      xyz="-0.0060093 -0.0052868 0.0022"
      rpy="1.5708 1.5579 -0.17453" />
    <parent
      link="W1L" />
    <child
      link="W2L" />
    <axis
      xyz="0 0 1" />
    <limit
      lower="0"
      upper="1.61"
      effort="1"
      velocity="10" />
  </joint>
  <link
    name="W3L">
    <inertial>
      <origin
        xyz="-0.000184696141133796 -0.00804230559972056 -0.00695454754747491"
        rpy="0 0 0" />
      <mass
        value="0.00158627869815631" />
      <inertia
        ixx="6.46562943955789E-08"
        ixy="6.81503308438986E-10"
        ixz="-1.50317717059224E-10"
        iyy="2.11097194496275E-08"
        iyz="-2.51851107164406E-09"
        izz="5.41351367442084E-08" />
    </inertial>
    <visual>
      <origin
        xyz="0 0 0"
        rpy="0 0 0" />
      <geometry>
        <mesh
          filename="../meshes/W3L.STL" />
      </geometry>
      <material
        name="">
        <color
          rgba="0.00784313725490196 0.662745098039216 0.450980392156863 1" />
      </material>
    </visual>
    <collision>
      <origin
        xyz="0 0 0"
        rpy="0 0 0" />
      <geometry>
        <mesh
          filename="../meshes/W3L.STL" />
      </geometry>
    </collision>
  </link>
  <joint
    name="W3J"
    type="revolute">
    <origin
      xyz="-0.00027001 -0.020998 0"
      rpy="0 0 0" />
    <parent
      link="W2L" />
    <child
      link="W3L" />
    <axis
      xyz="0 0 1" />
    <limit
      lower="0"
      upper="1.57"
      effort="1"
      velocity="10" />
  </joint>
  <link
    name="W4L">
    <inertial>
      <origin
        xyz="-0.0150812741584328 0.00112376231093009 -0.00826650795532988"
        rpy="0 0 0" />
      <mass
        value="0.0012559510401017" />
      <inertia
        ixx="8.10923317901519E-08"
        ixy="-5.16084779448607E-10"
        ixz="-5.7396863094407E-09"
        iyy="1.91709947026224E-07"
        iyz="-2.38138248153587E-09"
        izz="1.21733977294552E-07" />
    </inertial>
    <visual>
      <origin
        xyz="0 0 0"
        rpy="0 0 0" />
      <geometry>
        <mesh
          filename="../meshes/W4L.STL" />
      </geometry>
      <material
        name="">
        <color
          rgba="0.152941176470588 0.658823529411765 0.537254901960784 1" />
      </material>
    </visual>
    <collision>
      <origin
        xyz="0 0 0"
        rpy="0 0 0" />
      <geometry>
        <mesh
          filename="../meshes/W4L.STL" />
      </geometry>
    </collision>
  </link>
  <joint
    name="W4J"
    type="revolute">
    <origin
      xyz="-0.00017553 -0.01365 1.7002E-05"
      rpy="0 0 0" />
    <parent
      link="W3L" />
    <child
      link="W4L" />
    <axis
      xyz="0 0 1" />
    <limit
      lower="-0.61"
      upper="1.57"
      effort="1"
      velocity="10" />
  </joint>
  <link
    name="W5L">
    <inertial>
      <origin
        xyz="0.0148857243117571 -0.0226226429859191 -0.007767049332996"
        rpy="0 0 0" />
      <mass
        value="0.00490185783628411" />
      <inertia
        ixx="6.40032730382031E-07"
        ixy="1.61323900836389E-07"
        ixz="-6.92298184798021E-09"
        iyy="4.6669240440708E-07"
        iyz="-3.24733062478008E-09"
        izz="5.65296969105551E-07" />
    </inertial>
    <visual>
      <origin
        xyz="0 0 0"
        rpy="0 0 0" />
      <geometry>
        <mesh
          filename="../meshes/W5L.STL" />
      </geometry>
      <material
        name="">
        <color
          rgba="0.792156862745098 0.819607843137255 0.933333333333333 1" />
      </material>
    </visual>
    <collision>
      <origin
        xyz="0 0 0"
        rpy="0 0 0" />
      <geometry>
        <mesh
          filename="../meshes/W5L.STL" />
      </geometry>
    </collision>
  </link>
  <joint
    name="W5J"
    type="revolute">
    <origin
      xyz="-0.026994 0.00034711 0.00089646"
      rpy="0 0 0" />
    <parent
      link="W4L" />
    <child
      link="W5L" />
    <axis
      xyz="0 0 1" />
    <limit
      lower="-0.27"
      upper="0.53"
      effort="1"
      velocity="10" />
  </joint>
  <link
    name="W6L">
    <inertial>
      <origin
        xyz="-6.93889390390723E-18 -6.93889390390723E-18 1.51788304147971E-18"
        rpy="0 0 0" />
      <mass
        value="5.23598775598299E-07" />
      <inertia
        ixx="5.23598775598299E-14"
        ixy="-1.57772181044202E-30"
        ixz="1.97215226305253E-31"
        iyy="5.23598775598299E-14"
        iyz="1.45446229400124E-30"
        izz="5.23598775598299E-14" />
    </inertial>
    <visual>
      <origin
        xyz="0 0 0"
        rpy="0 0 0" />
      <geometry>
        <mesh
          filename="../meshes/W6L.STL" />
      </geometry>
      <material
        name="">
        <color
          rgba="0.792156862745098 0.819607843137255 0.933333333333333 1" />
      </material>
    </visual>
    <collision>
      <origin
        xyz="0 0 0"
        rpy="0 0 0" />
      <geometry>
        <mesh
          filename="../meshes/W6L.STL" />
      </geometry>
    </collision>
  </link>
  <joint
    name="W6J"
    type="fixed">
    <origin
      xyz="0.023695 -0.017904 -0.0072503"
      rpy="2.9422 -1.5708 0" />
    <parent
      link="W5L" />
    <child
      link="W6L" />
    <axis
      xyz="0 0 0" />
  </joint>
  <link
    name="W32L">
    <inertial>
      <origin
        xyz="6.93889390390723E-18 -1.58636606109831E-05 0"
        rpy="0 0 0" />
      <mass
        value="1.32197312466454E-07" />
      <inertia
        ixx="1.18961641797519E-14"
        ixy="-1.20301288046204E-29"
        ixz="-3.89705694159471E-32"
        iyy="2.80976814867145E-15"
        iyz="5.72665477366948E-31"
        izz="1.18961641797519E-14" />
    </inertial>
    <visual>
      <origin
        xyz="0 0 0"
        rpy="0 0 0" />
      <geometry>
        <mesh
          filename="../meshes/W32L.STL" />
      </geometry>
      <material
        name="">
        <color
          rgba="0.792156862745098 0.819607843137255 0.933333333333333 1" />
      </material>
    </visual>
    <collision>
      <origin
        xyz="0 0 0"
        rpy="0 0 0" />
      <geometry>
        <mesh
          filename="../meshes/W32L.STL" />
      </geometry>
    </collision>
  </link>
  <joint
    name="W32J"
    type="fixed">
    <origin
      xyz="0.0022813 0.017972 -0.007"
      rpy="-0.40571 -1.5708 -2.7431" />
    <parent
      link="W3L" />
    <child
      link="W32L" />
    <axis
      xyz="0 0 0" />
  </joint>
  <link
    name="W22L">
    <inertial>
      <origin
        xyz="0 8.67361737988404E-19 0"
        rpy="0 0 0" />
      <mass
        value="5.235987755983E-07" />
      <inertia
        ixx="5.23598775598301E-14"
        ixy="7.88860905221012E-31"
        ixz="8.33820301833465E-33"
        iyy="5.23598775598301E-14"
        iyz="1.31148751026931E-31"
        izz="5.23598775598301E-14" />
    </inertial>
    <visual>
      <origin
        xyz="0 0 0"
        rpy="0 0 0" />
      <geometry>
        <mesh
          filename="../meshes/W22L.STL" />
      </geometry>
      <material
        name="">
        <color
          rgba="0.792156862745098 0.819607843137255 0.933333333333333 1" />
      </material>
    </visual>
    <collision>
      <origin
        xyz="0 0 0"
        rpy="0 0 0" />
      <geometry>
        <mesh
          filename="../meshes/W22L.STL" />
      </geometry>
    </collision>
  </link>
  <joint
    name="W22J"
    type="fixed">
    <origin
      xyz="0.0020113 -0.0030261 -0.007"
      rpy="-0.15707 -1.5708 -2.9852" />
    <parent
      link="W2L" />
    <child
      link="W22L" />
    <axis
      xyz="0 0 0" />
  </joint>
  <link
    name="X1L">
    <inertial>
      <origin
        xyz="-1.94257734134617E-07 -0.00317362418956868 0.00211239445297212"
        rpy="0 0 0" />
      <mass
        value="0.000192889633544386" />
      <inertia
        ixx="1.67818890869216E-09"
        ixy="3.12342064201563E-14"
        ixz="-1.24323358494069E-14"
        iyy="1.21428142191141E-09"
        iyz="2.78452905339511E-10"
        izz="2.22682080677846E-09" />
    </inertial>
    <visual>
      <origin
        xyz="0 0 0"
        rpy="0 0 0" />
      <geometry>
        <mesh
          filename="../meshes/X1L.STL" />
      </geometry>
      <material
        name="">
        <color
          rgba="0.549019607843137 0.192156862745098 0.223529411764706 1" />
      </material>
    </visual>
    <collision>
      <origin
        xyz="0 0 0"
        rpy="0 0 0" />
      <geometry>
        <mesh
          filename="../meshes/X1L.STL" />
      </geometry>
    </collision>
  </link>
  <joint
    name="X1J"
    type="revolute">
    <origin
      xyz="0.0031919 -0.019793 -0.0060214"
      rpy="1.5708 -1.2217 -1.5839" />
    <parent
      link="J4L" />
    <child
      link="X1L" />
    <axis
      xyz="0 0 1" />
    <limit
      lower="-1.05"
      upper="0.35"
      effort="1"
      velocity="10" />
  </joint>
  <link
    name="X2L">
    <inertial>
      <origin
        xyz="0.00108295126973307 -0.00976228508118617 -0.00676815384496166"
        rpy="0 0 0" />
      <mass
        value="0.00105740735738276" />
      <inertia
        ixx="7.91052476322285E-08"
        ixy="-1.38445801066481E-10"
        ixz="2.56025265304919E-10"
        iyy="3.4912732426045E-08"
        iyz="-5.40954551570686E-10"
        izz="5.06368108906013E-08" />
    </inertial>
    <visual>
      <origin
        xyz="0 0 0"
        rpy="0 0 0" />
      <geometry>
        <mesh
          filename="../meshes/X2L.STL" />
      </geometry>
      <material
        name="">
        <color
          rgba="0 0 1 1" />
      </material>
    </visual>
    <collision>
      <origin
        xyz="0 0 0"
        rpy="0 0 0" />
      <geometry>
        <mesh
          filename="../meshes/X2L.STL" />
      </geometry>
    </collision>
  </link>
  <joint
    name="X2J"
    type="revolute">
    <origin
      xyz="0.00625 -0.005 0.0022"
      rpy="1.6003 1.5708 1.6006" />
    <parent
      link="X1L" />
    <child
      link="X2L" />
    <axis
      xyz="0 0 1" />
    <limit
      lower="0"
      upper="1.57"
      effort="1"
      velocity="10" />
  </joint>
  <link
    name="X3L">
    <inertial>
      <origin
        xyz="-4.4131465887315E-05 -0.0047429368737992 -0.0069827150548501"
        rpy="0 0 0" />
      <mass
        value="0.000679787071317014" />
      <inertia
        ixx="1.78102270690524E-08"
        ixy="1.25136798905473E-11"
        ixz="2.27314518723083E-11"
        iyy="7.85291963354399E-09"
        iyz="-1.21000826031155E-09"
        izz="1.43555075661821E-08" />
    </inertial>
    <visual>
      <origin
        xyz="0 0 0"
        rpy="0 0 0" />
      <geometry>
        <mesh
          filename="../meshes/X3L.STL" />
      </geometry>
      <material
        name="">
        <color
          rgba="0.470588235294118 0.490196078431373 0.184313725490196 1" />
      </material>
    </visual>
    <collision>
      <origin
        xyz="0 0 0"
        rpy="0 0 0" />
      <geometry>
        <mesh
          filename="../meshes/X3L.STL" />
      </geometry>
    </collision>
  </link>
  <joint
    name="X3J"
    type="revolute">
    <origin
      xyz="0 -0.021 0"
      rpy="0 0 0" />
    <parent
      link="X2L" />
    <child
      link="X3L" />
    <axis
      xyz="0 0 1" />
    <limit
      lower="0"
      upper="1.57"
      effort="1"
      velocity="10" />
  </joint>
  <link
    name="X4L">
    <inertial>
      <origin
        xyz="-0.0148960644592312 0.00122994723526567 -0.00844784254844951"
        rpy="0 0 0" />
      <mass
        value="0.00120839923822347" />
      <inertia
        ixx="7.62065195101841E-08"
        ixy="-1.11379996438659E-09"
        ixz="-5.39934529627159E-09"
        iyy="1.85553971838161E-07"
        iyz="-3.12942492903703E-09"
        izz="1.19337358719461E-07" />
    </inertial>
    <visual>
      <origin
        xyz="0 0 0"
        rpy="0 0 0" />
      <geometry>
        <mesh
          filename="../meshes/X4L.STL" />
      </geometry>
      <material
        name="">
        <color
          rgba="0.792156862745098 0.819607843137255 0.933333333333333 1" />
      </material>
    </visual>
    <collision>
      <origin
        xyz="0 0 0"
        rpy="0 0 0" />
      <geometry>
        <mesh
          filename="../meshes/X4L.STL" />
      </geometry>
    </collision>
  </link>
  <joint
    name="X4J"
    type="revolute">
    <origin
      xyz="0 -0.0086516 1.7002E-05"
      rpy="0 0 0.012269" />
    <parent
      link="X3L" />
    <child
      link="X4L" />
    <axis
      xyz="0 0 1" />
    <limit
      lower="-0.35"
      upper="1.05"
      effort="1"
      velocity="10" />
  </joint>
  <link
    name="X5L">
    <inertial>
      <origin
        xyz="0.0148763280004641 -0.0225370465168462 -0.0077766658147684"
        rpy="0 0 0" />
      <mass
        value="0.00487101486261411" />
      <inertia
        ixx="6.37143614054768E-07"
        ixy="1.62507352957233E-07"
        ixz="-7.16816545184884E-09"
        iyy="4.6559812159234E-07"
        iyz="-3.41192948465523E-09"
        izz="5.62564445105951E-07" />
    </inertial>
    <visual>
      <origin
        xyz="0 0 0"
        rpy="0 0 0" />
      <geometry>
        <mesh
          filename="../meshes/X5L.STL" />
      </geometry>
      <material
        name="">
        <color
          rgba="0.792156862745098 0.819607843137255 0.933333333333333 1" />
      </material>
    </visual>
    <collision>
      <origin
        xyz="0 0 0"
        rpy="0 0 0" />
      <geometry>
        <mesh
          filename="../meshes/X5L.STL" />
      </geometry>
    </collision>
  </link>
  <joint
    name="X5J"
    type="revolute">
    <origin
      xyz="-0.026994 0.00033121 0.00089646"
      rpy="0 0 0" />
    <parent
      link="X4L" />
    <child
      link="X5L" />
    <axis
      xyz="0 0 1" />
    <limit
      lower="-0.25"
      upper="0.46"
      effort="1"
      velocity="10" />
  </joint>
  <link
    name="X6L">
    <inertial>
      <origin
        xyz="0 2.77555756156289E-17 1.73472347597681E-18"
        rpy="0 0 0" />
      <mass
        value="5.23598775598299E-07" />
      <inertia
        ixx="5.23598775598299E-14"
        ixy="3.15544362088405E-30"
        ixz="1.97215226305253E-31"
        iyy="5.23598775598299E-14"
        iyz="1.38050658413677E-30"
        izz="5.23598775598299E-14" />
    </inertial>
    <visual>
      <origin
        xyz="0 0 0"
        rpy="0 0 0" />
      <geometry>
        <mesh
          filename="../meshes/X6L.STL" />
      </geometry>
      <material
        name="">
        <color
          rgba="0.792156862745098 0.819607843137255 0.933333333333333 1" />
      </material>
    </visual>
    <collision>
      <origin
        xyz="0 0 0"
        rpy="0 0 0" />
      <geometry>
        <mesh
          filename="../meshes/X6L.STL" />
      </geometry>
    </collision>
  </link>
  <joint
    name="X6J"
    type="fixed">
    <origin
      xyz="0.023705 -0.01789 -0.0072503"
      rpy="-1.5641 -1.5708 -1.7762" />
    <parent
      link="X5L" />
    <child
      link="X6L" />
    <axis
      xyz="0 0 0" />
  </joint>
  <link
    name="X22L">
    <inertial>
      <origin
        xyz="0 -1.58636606109822E-05 -8.67361737988404E-18"
        rpy="0 0 0" />
      <mass
        value="1.32197312466454E-07" />
      <inertia
        ixx="1.1896164179752E-14"
        ixy="-9.86076131526265E-30"
        ixz="-7.14344268685296E-32"
        iyy="2.80976814867144E-15"
        iyz="-6.55570354223537E-31"
        izz="1.1896164179752E-14" />
    </inertial>
    <visual>
      <origin
        xyz="0 0 0"
        rpy="0 0 0" />
      <geometry>
        <mesh
          filename="../meshes/X22L.STL" />
      </geometry>
      <material
        name="">
        <color
          rgba="0.792156862745098 0.819607843137255 0.933333333333333 1" />
      </material>
    </visual>
    <collision>
      <origin
        xyz="0 0 0"
        rpy="0 0 0" />
      <geometry>
        <mesh
          filename="../meshes/X22L.STL" />
      </geometry>
    </collision>
  </link>
  <joint
    name="X22J"
    type="fixed">
    <origin
      xyz="0.00205 -0.003 -0.007"
      rpy="1.5675 -1.5708 1.5612" />
    <parent
      link="X2L" />
    <child
      link="X22L" />
    <axis
      xyz="0 0 0" />
  </joint>
  <link
    name="J42L">
    <inertial>
      <origin
        xyz="6.93889390390723E-18 6.93889390390723E-18 2.16840434497101E-19"
        rpy="0 0 0" />
      <mass
        value="1.13097335529233E-07" />
      <inertia
        ixx="4.07150407905237E-15"
        ixy="0"
        ixz="5.85032266306174E-33"
        iyy="4.07150407905237E-15"
        iyz="3.52150135525304E-33"
        izz="4.07150407905237E-15" />
    </inertial>
    <visual>
      <origin
        xyz="0 0 0"
        rpy="0 0 0" />
      <geometry>
        <mesh
          filename="../meshes/J42L.STL" />
      </geometry>
      <material
        name="">
        <color
          rgba="0.792156862745098 0.819607843137255 0.933333333333333 1" />
      </material>
    </visual>
    <collision>
      <origin
        xyz="0 0 0"
        rpy="0 0 0" />
      <geometry>
        <mesh
          filename="../meshes/J42L.STL" />
      </geometry>
    </collision>
  </link>
  <joint
    name="J42J"
    type="fixed">
    <origin
      xyz="0.005688 -0.004787 0.026501"
      rpy="-1.5708 -1.1345 -1.5839" />
    <parent
      link="J4L" />
    <child
      link="J42L" />
    <axis
      xyz="0 0 0" />
  </joint>
  <link
    name="J32L">
    <inertial>
      <origin
        xyz="6.93889390390723E-18 6.93889390390723E-18 -2.16840434497101E-19"
        rpy="0 0 0" />
      <mass
        value="5.23598775598299E-07" />
      <inertia
        ixx="5.23598775598299E-14"
        ixy="2.79857321131817E-31"
        ixz="2.86985925493723E-42"
        iyy="5.23598775598299E-14"
        iyz="9.86076114719705E-32"
        izz="5.23598775598299E-14" />
    </inertial>
    <visual>
      <origin
        xyz="0 0 0"
        rpy="0 0 0" />
      <geometry>
        <mesh
          filename="../meshes/J32L.STL" />
      </geometry>
      <material
        name="">
        <color
          rgba="0.792156862745098 0.819607843137255 0.933333333333333 1" />
      </material>
    </visual>
    <collision>
      <origin
        xyz="0 0 0"
        rpy="0 0 0" />
      <geometry>
        <mesh
          filename="../meshes/J32L.STL" />
      </geometry>
    </collision>
  </link>
  <joint
    name="J32J"
    type="fixed">
    <origin
      xyz="0.0052965 -0.034772 0.004985"
      rpy="0.013056 1.5708 0" />
    <parent
      link="J3L" />
    <child
      link="J32L" />
    <axis
      xyz="0 0 0" />
  </joint>
</robot>
